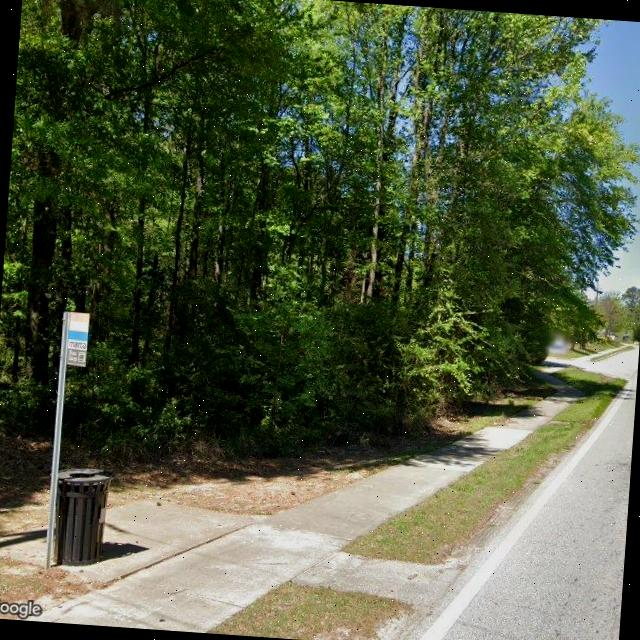trash_can: (44, 465, 112, 568)
